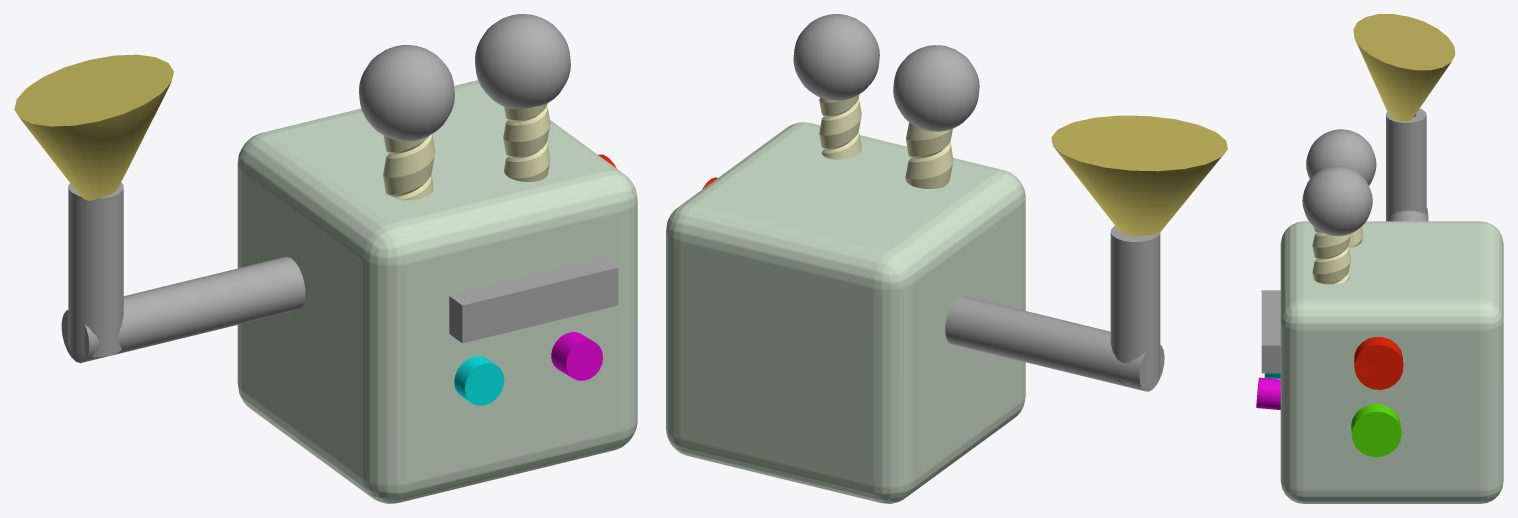
Rendered from experiment machine.fbx.
The picture shows the model from 3 angles, left to right: view 1: azimuth 30°, elevation 25°; view 2: azimuth 150°, elevation 25°; view 3: azimuth 270°, elevation 25°; orthographic projection. The views are drawn at different scales.
Parts seen in each view (by area): view 1: pCube1, pCone1, pPipe2, pPipe1, pCube3, pSphere2, pSphere3, pHelix2, pHelix1, pCylinder2, pCylinder1; view 2: pCube1, pCone1, pPipe2, pPipe1, pSphere3, pSphere2, pHelix1, pHelix2; view 3: pCube1, pCone1, pPipe1, pSphere3, pSphere2, pCylinder4, pCylinder3, pHelix2, pCube3, pCylinder2, pPipe2.
Part boxes in pixels (<box>): pCube1: <box>237,80,637,503</box>; pCone1: <box>14,54,173,200</box>; pPipe2: <box>61,256,305,363</box>; pPipe1: <box>68,182,123,357</box>; pCube3: <box>449,258,618,343</box>; pSphere2: <box>359,45,454,141</box>; pSphere3: <box>475,14,570,109</box>; pHelix2: <box>503,104,550,181</box>; pHelix1: <box>383,134,435,200</box>; pCylinder2: <box>551,332,603,380</box>; pCylinder1: <box>454,356,504,405</box>; pCube1: <box>666,122,1025,503</box>; pCone1: <box>1051,115,1227,236</box>; pPipe2: <box>945,295,1164,391</box>; pPipe1: <box>1110,226,1160,384</box>; pSphere3: <box>793,14,879,100</box>; pSphere2: <box>893,45,979,131</box>; pHelix1: <box>905,122,953,188</box>; pHelix2: <box>819,94,861,159</box>; pCube1: <box>1280,221,1503,503</box>; pCone1: <box>1353,14,1455,121</box>; pPipe1: <box>1386,108,1426,221</box>; pSphere3: <box>1302,166,1372,236</box>; pSphere2: <box>1306,129,1376,185</box>; pCylinder4: <box>1351,404,1401,457</box>; pCylinder3: <box>1354,337,1403,389</box>; pHelix2: <box>1312,227,1350,284</box>; pCube3: <box>1261,290,1280,373</box>; pCylinder2: <box>1256,377,1280,409</box>; pPipe2: <box>1388,207,1428,221</box>.
Size of the model in its own units: 19.51 by 13.73 by 9.88.
